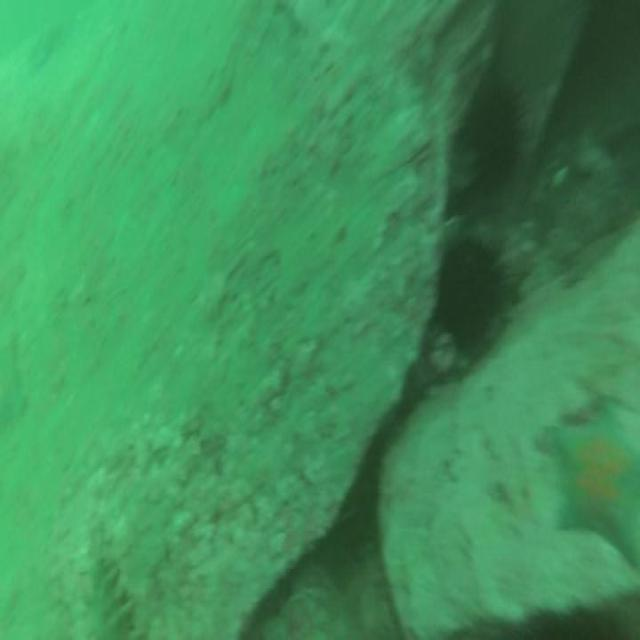echinus: (432, 232, 511, 362), (459, 78, 527, 198)
holothurian: (93, 534, 168, 640)
starfish: (544, 401, 640, 572)
